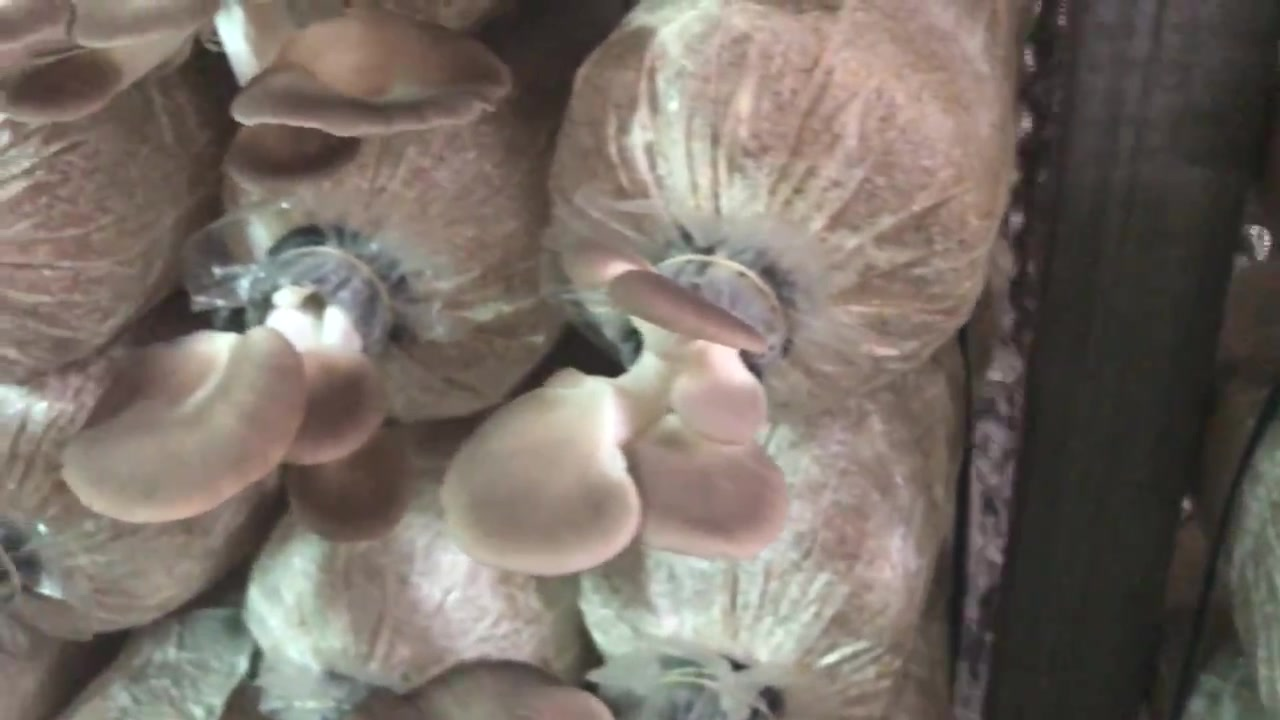nam: (436, 234, 793, 574), (63, 235, 420, 543), (232, 12, 511, 174)
